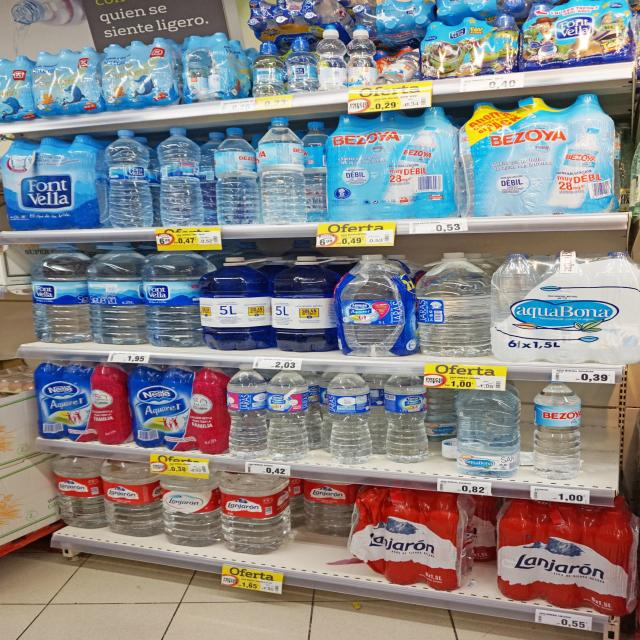plastic_bottle: (532, 376, 582, 479)
